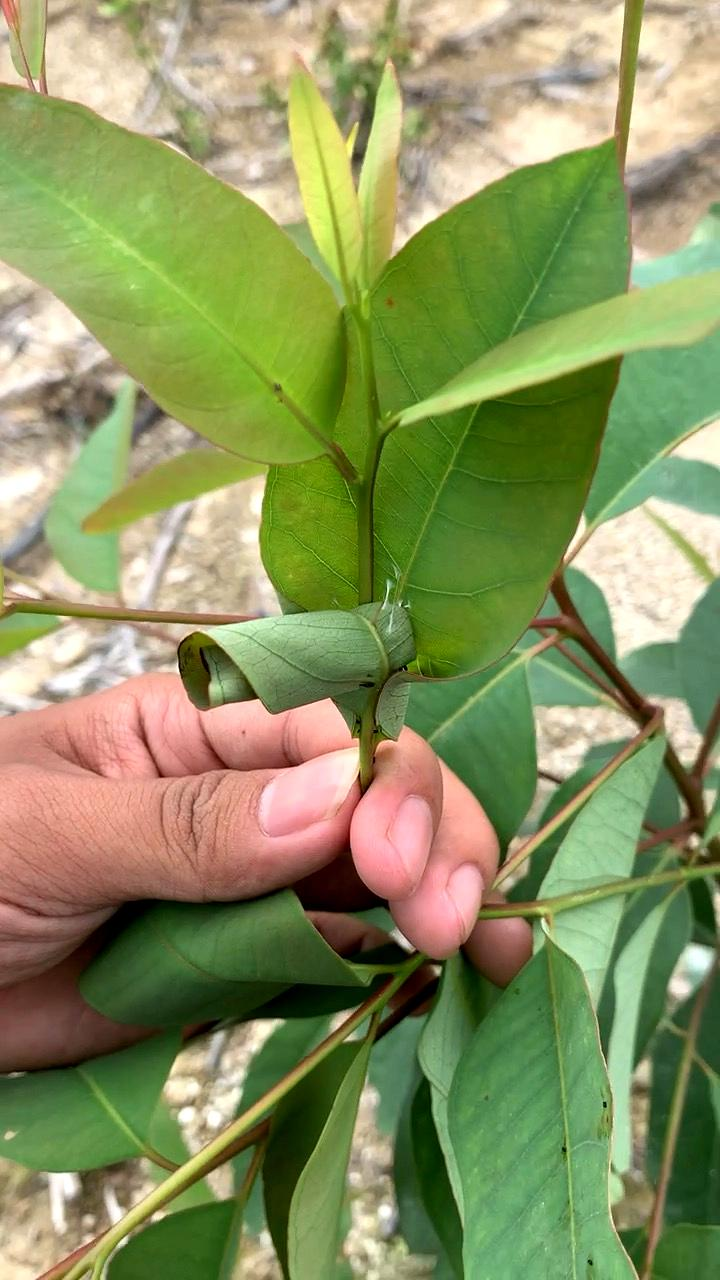Leaf Roller - Leaf: (133, 548, 470, 742)
